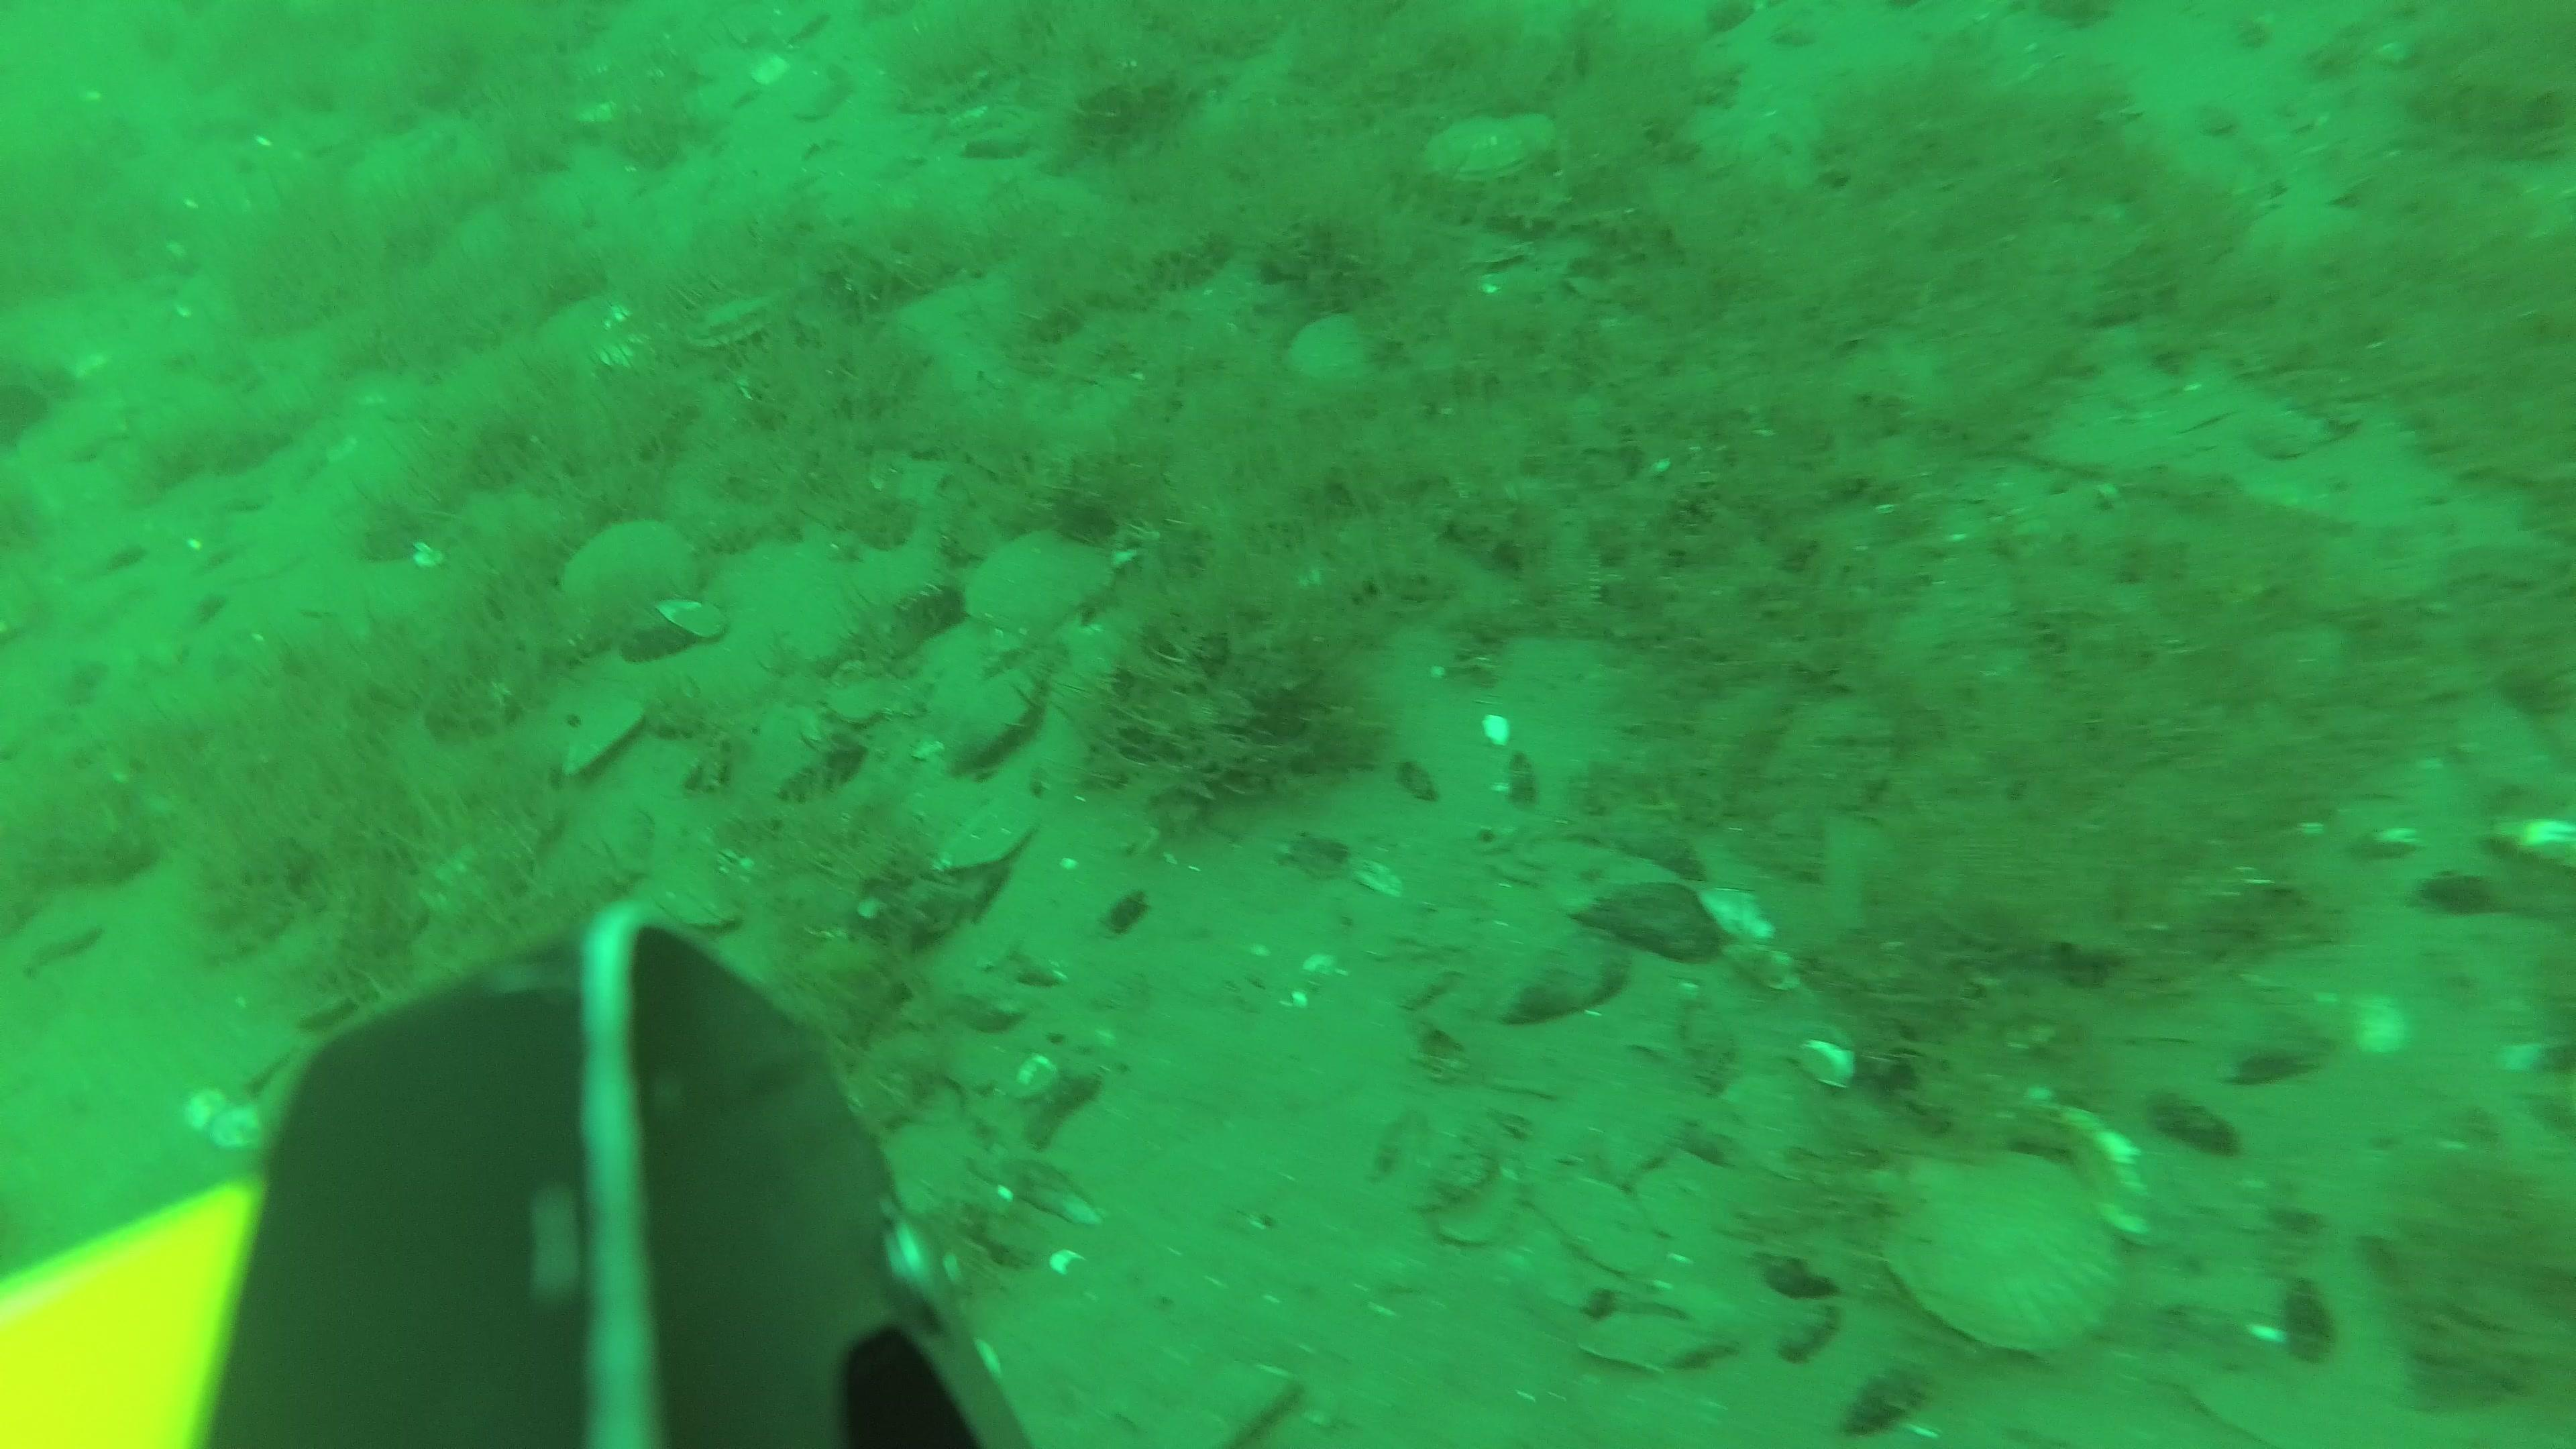scallop: (1875, 1134, 2127, 1355), (879, 625, 1054, 770), (598, 614, 782, 736), (961, 527, 1122, 653), (552, 511, 708, 637), (527, 292, 669, 386), (1422, 106, 1564, 193), (671, 280, 809, 357), (1277, 304, 1385, 389), (812, 653, 920, 725), (556, 704, 646, 778)
